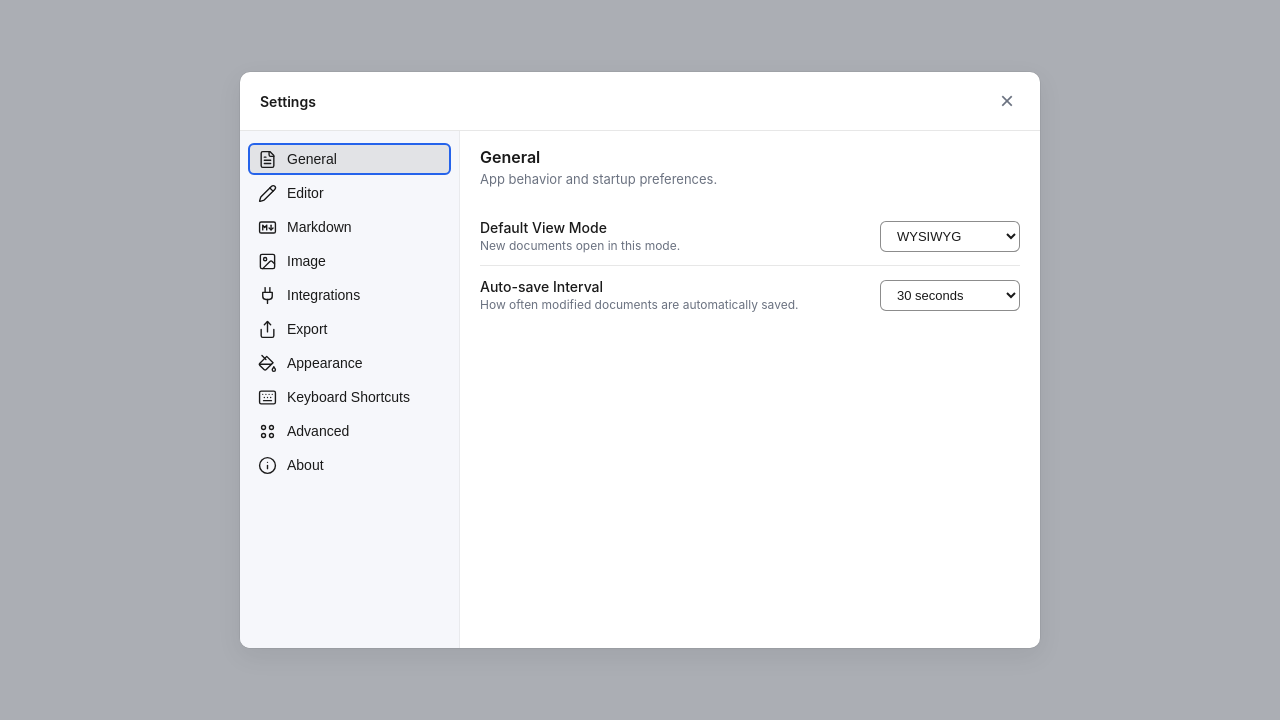
Test: WI-6 McpServerStatus › UI-01 running + configured disabled shows only the Running badge in one status region
The image size is (1280, 720).
Click the button "Integrations" at (350, 295), box [248,279,451,311]
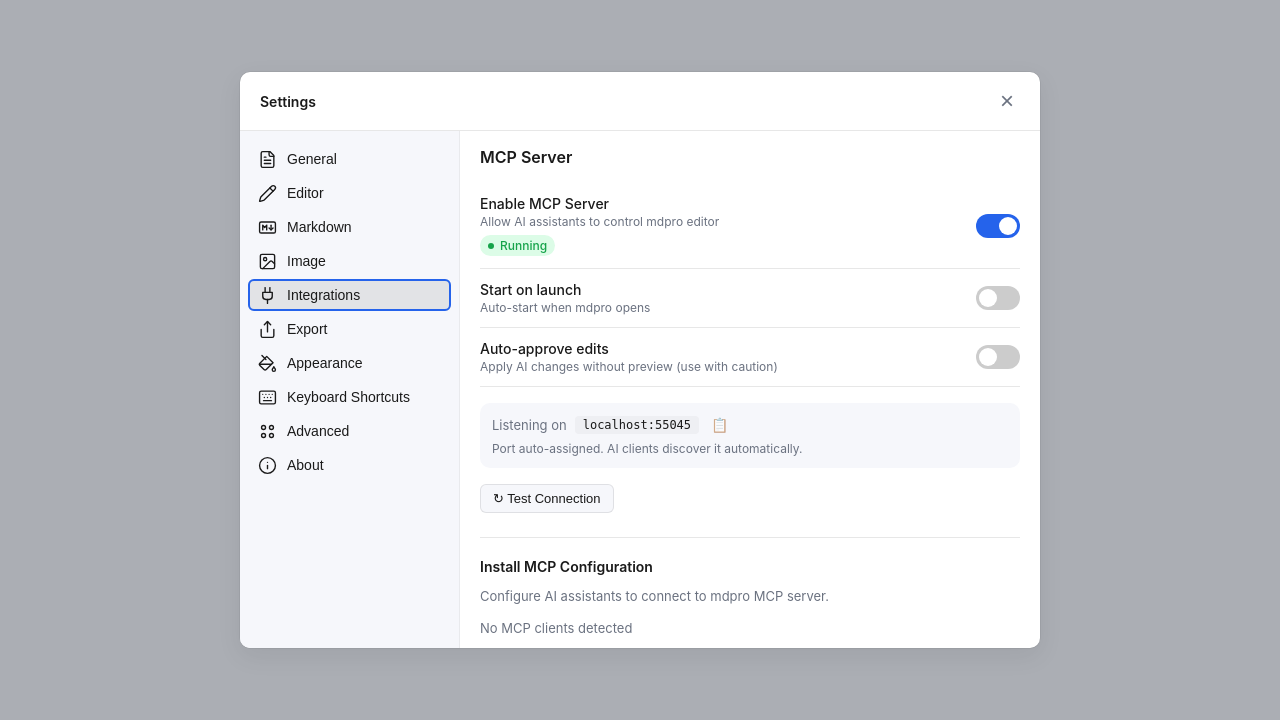
Check: the switch labelled "Enable MCP Server" is shown, box [976,214,1020,238]
Check: the message reads "Running", box [500,238,547,253]
